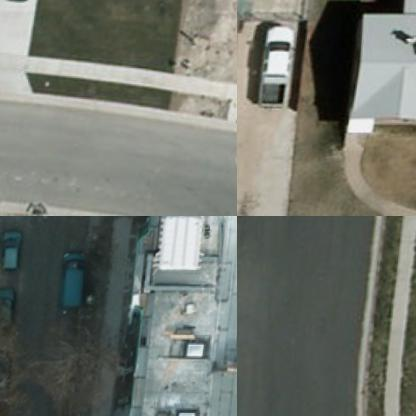car: (0, 282, 19, 337), (0, 231, 23, 272), (0, 351, 15, 407)
pickup: (258, 27, 292, 118)
van: (58, 250, 95, 305)
